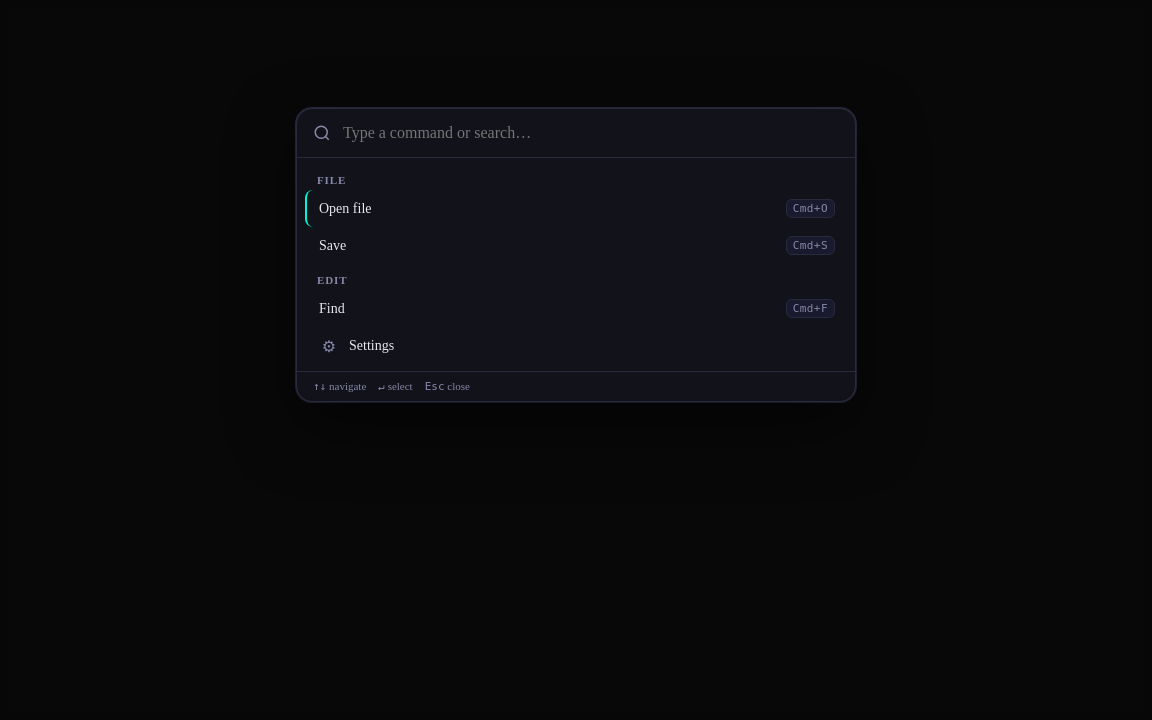
Test: TkxCommand › renders empty message when no matches
In the dropdown with placeholder "Type a command or search…": (590, 133) [341, 123, 839, 143], type "zzzzzz"
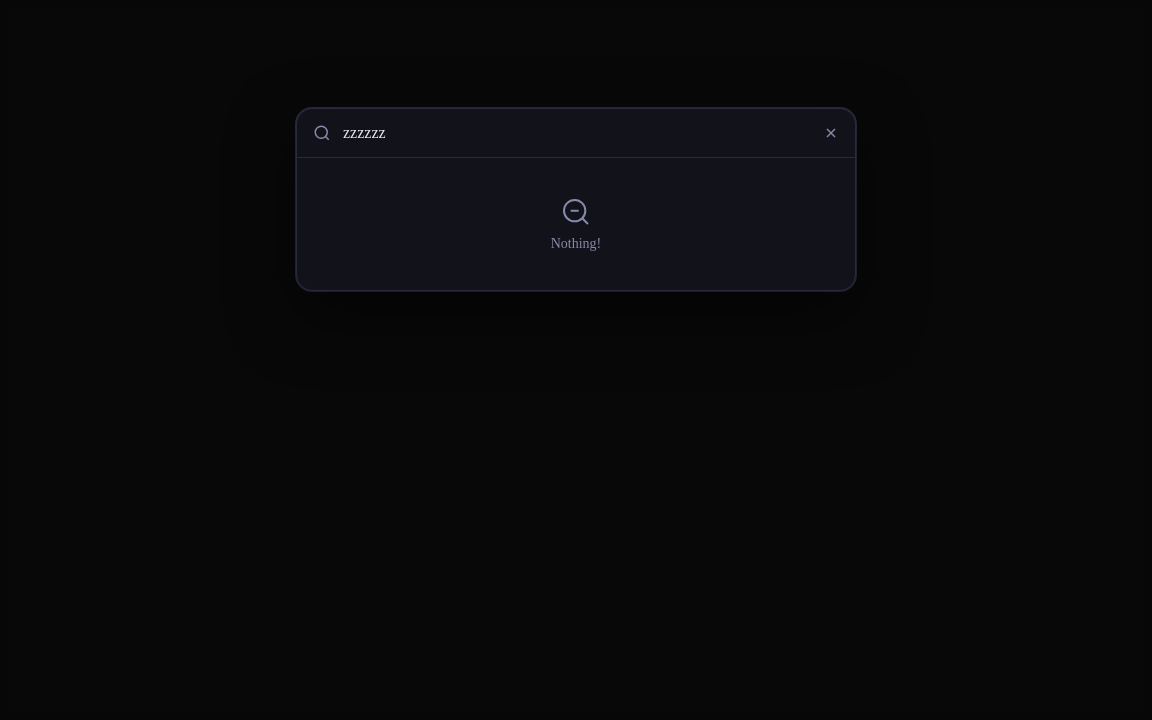
Expected: the text "Nothing!" is shown, [551, 236, 601, 252]
